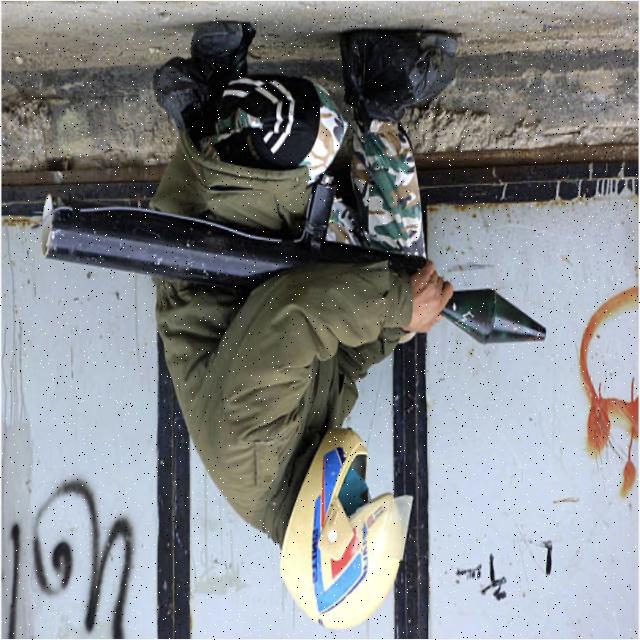bazooka: (26, 180, 567, 360)
